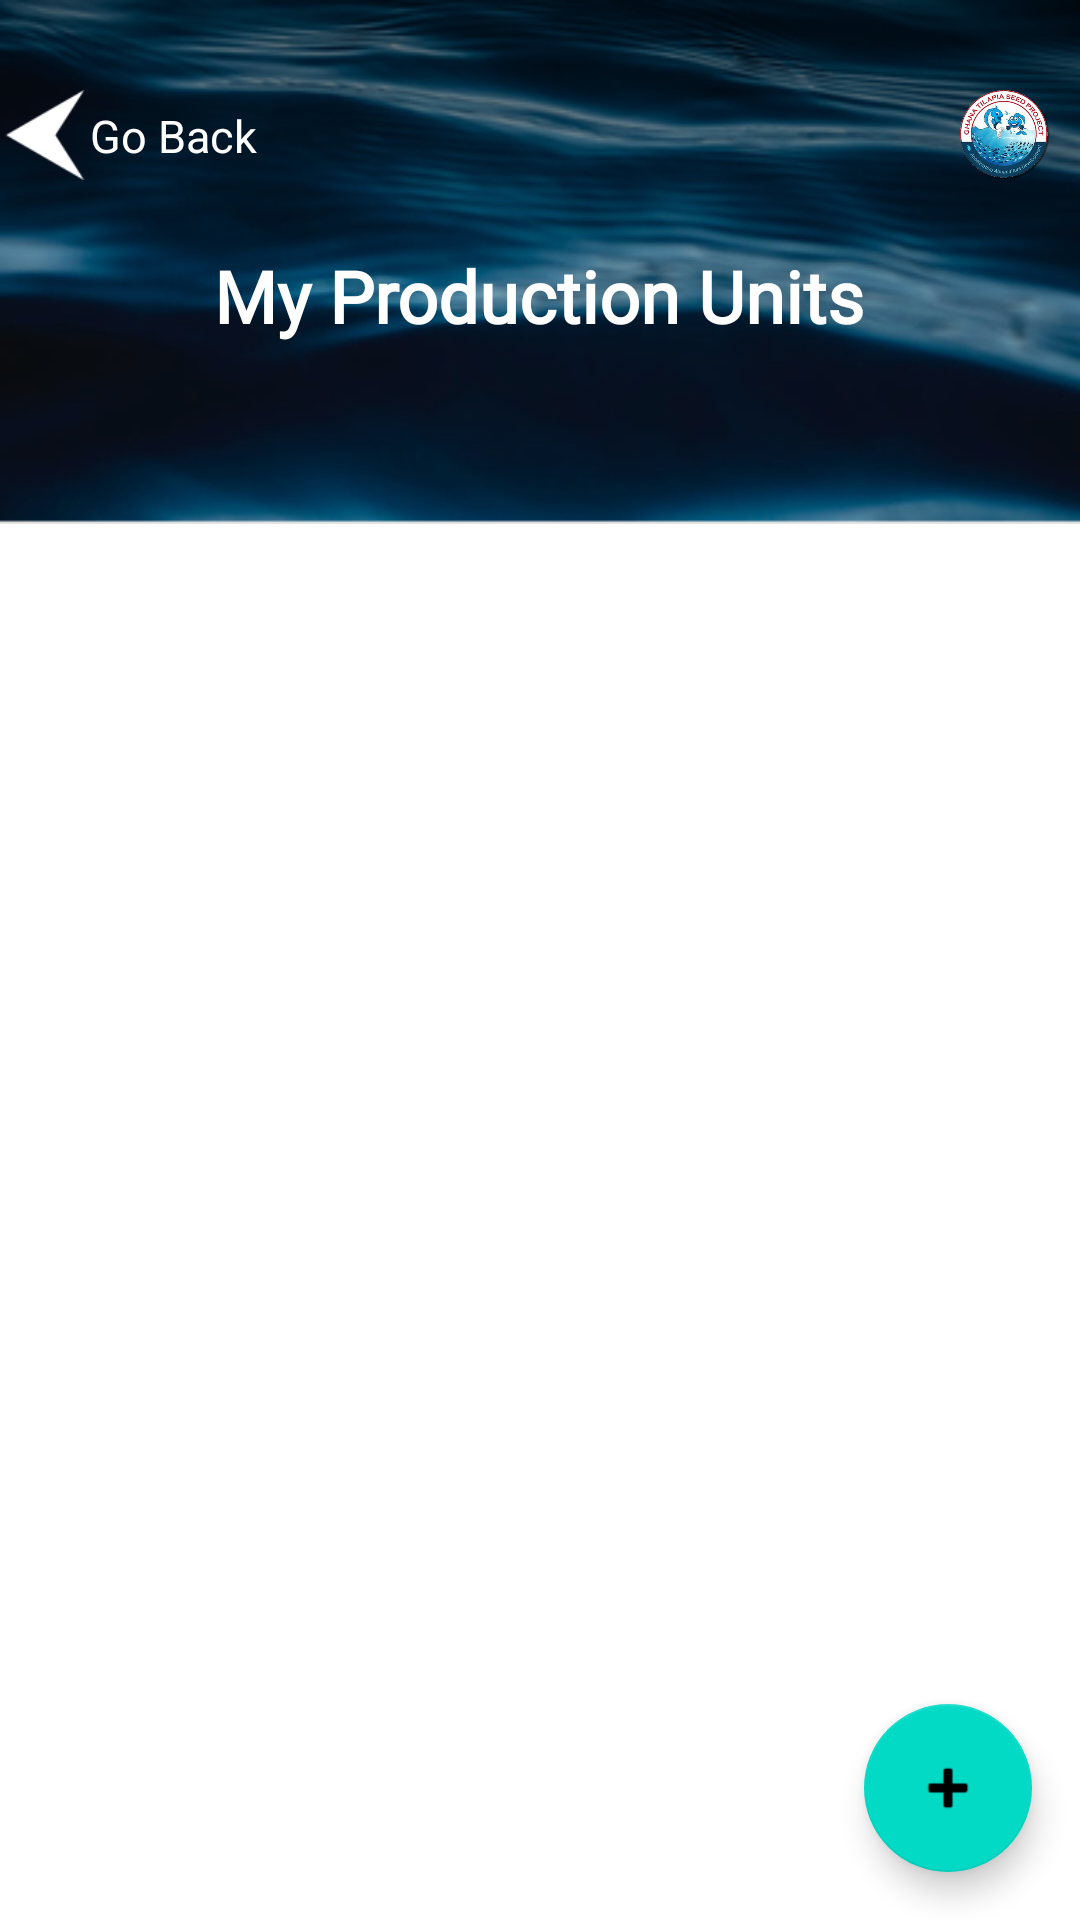

Icon bounding boxes for this 1080 x 1920 phone screenshot, format (x1, y1, x2, y2):
add: (864, 1704, 1032, 1872)
arrowwhite: (6, 90, 85, 180)
